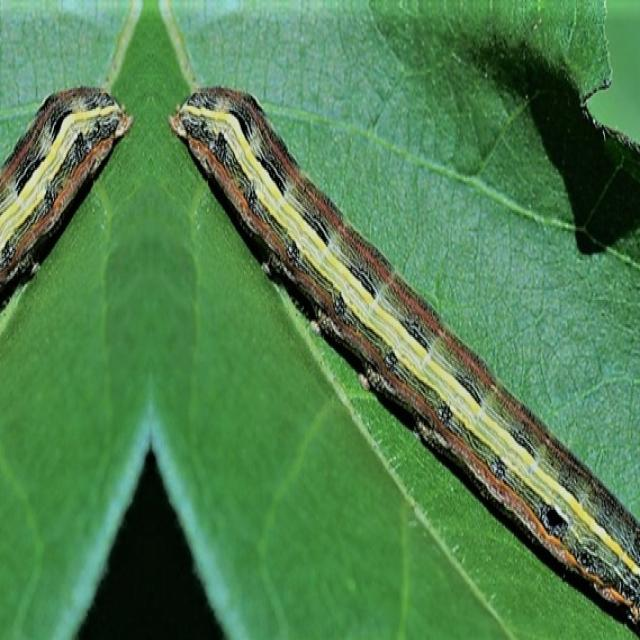armyworm: (166, 82, 639, 638)
